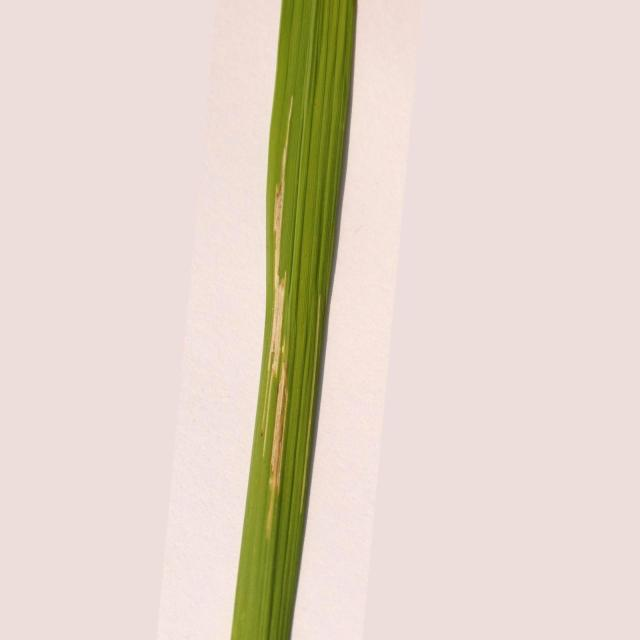Bacterial_Leaf_Blight: (261, 98, 292, 454), (268, 339, 287, 538)
